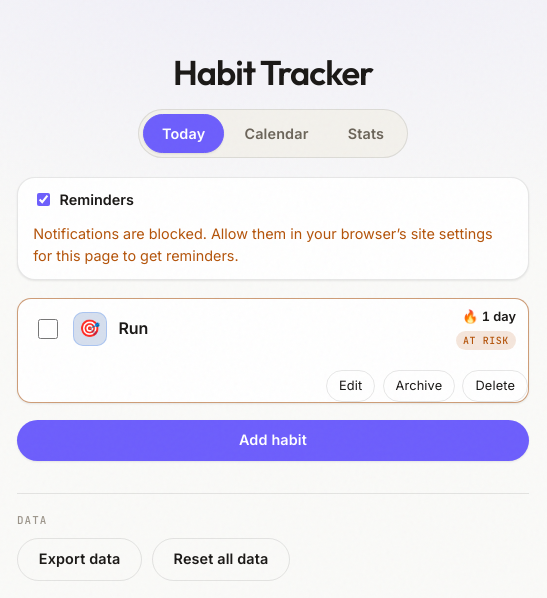
App › shows the streak count and marks yesterday-completed habits as at risk
expect the text "🔥 1 day" is shown: met, box [462,307,516,327]
expect the text "at risk" is shown: met, box [456,331,516,350]
Checking off today extends the chain and clears the warning.
Click the checkbox labelled "🎯 Run": (48, 329) [38,319,58,339]
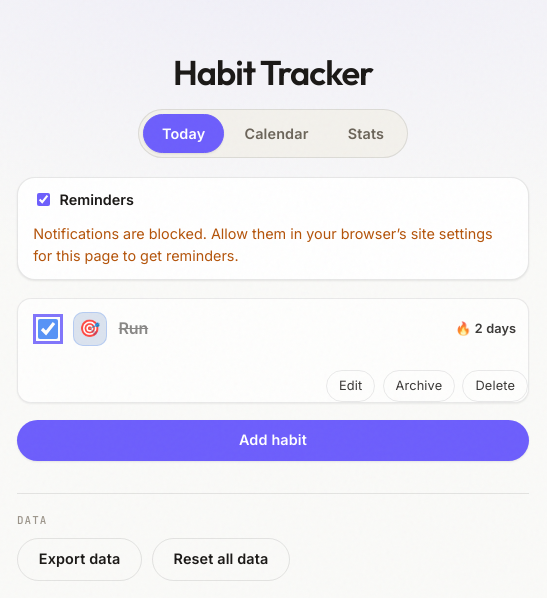
expect the text "🔥 2 days" is shown: met, box [455,319,516,339]
expect the text "at risk" is gone: met
